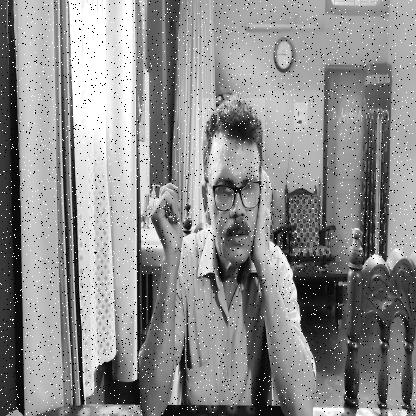Normal: (202, 98, 265, 276)
